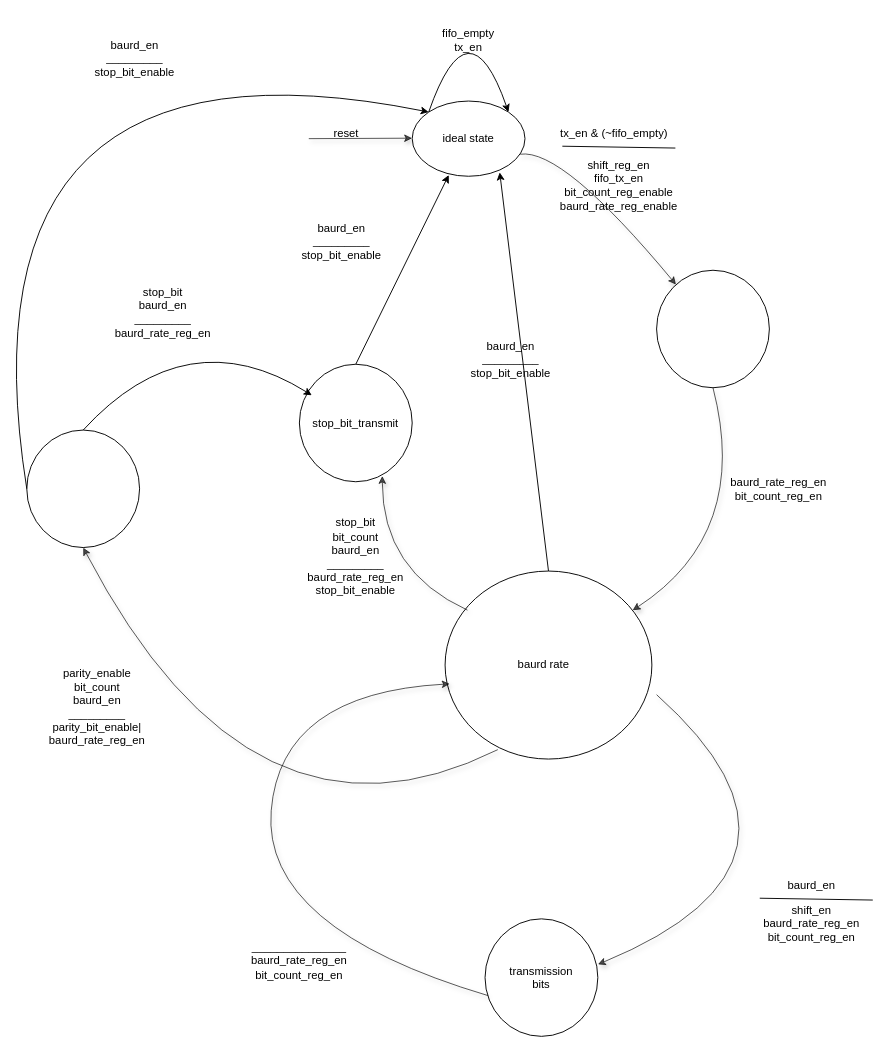
Some shapes in this 891 by 1053 pixel diagram are drawn without their labels. Each missing label, with the centre of its shape:
load data: pixel 712 328
parity send: pixel 83 488
